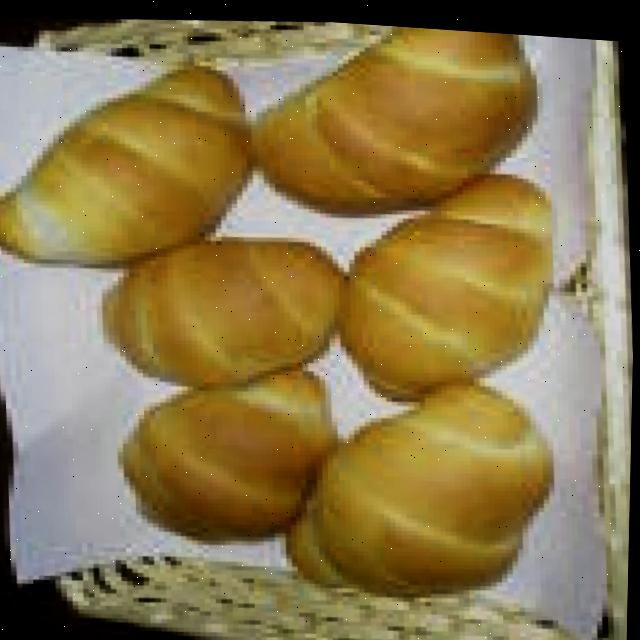面包点心: (0, 36, 596, 599)
